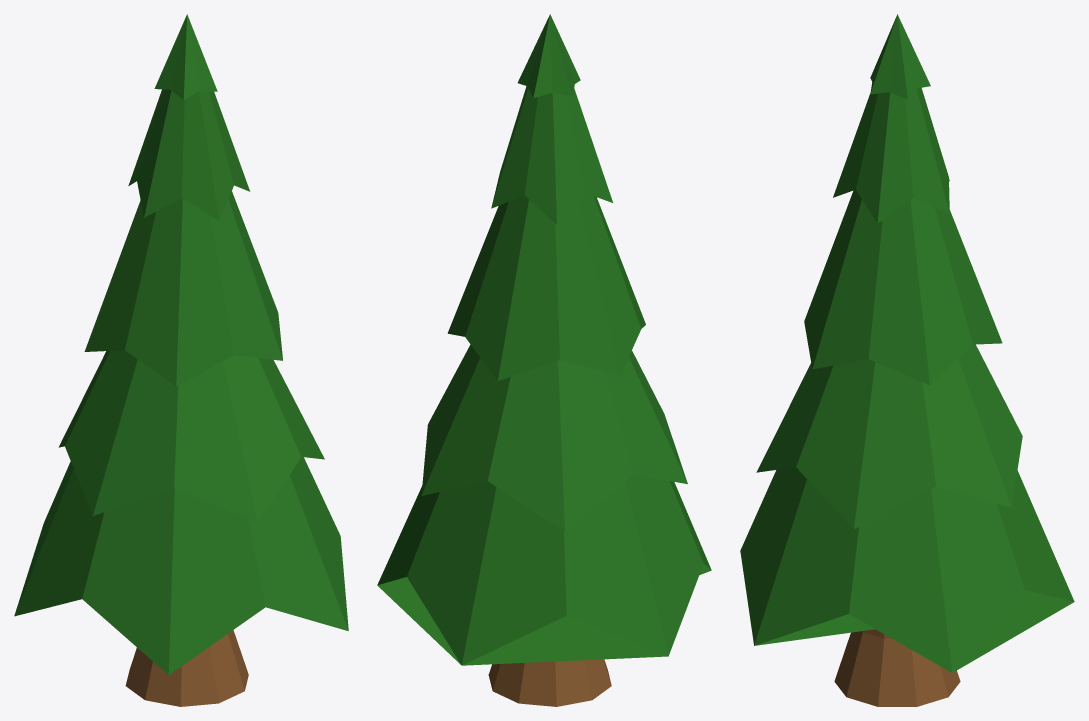
File: tree1 - Copy.fbx
3 views of the same model, side by side, from view 1: azimuth 30°, elevation 25°; view 2: azimuth 150°, elevation 25°; view 3: azimuth 270°, elevation 25° (orthographic).
Visible parts, largest first — view 1: Cylinder.001; view 2: Cylinder.001; view 3: Cylinder.001.
Boxes of the visible parts, x1,y1,x2,y2 form: Cylinder.001: (14, 14, 348, 706); Cylinder.001: (377, 14, 711, 706); Cylinder.001: (740, 14, 1074, 706).
Size of the model in its own units: 388 by 848 by 385.
